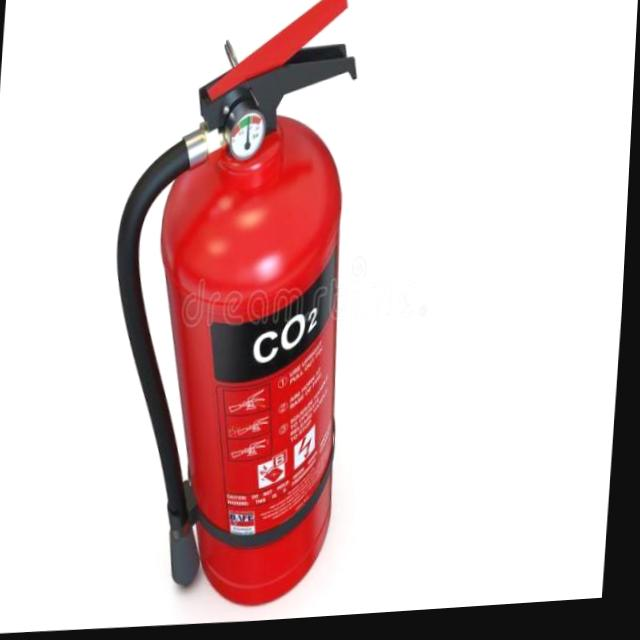FireExtinguisher: (94, 0, 370, 623)
